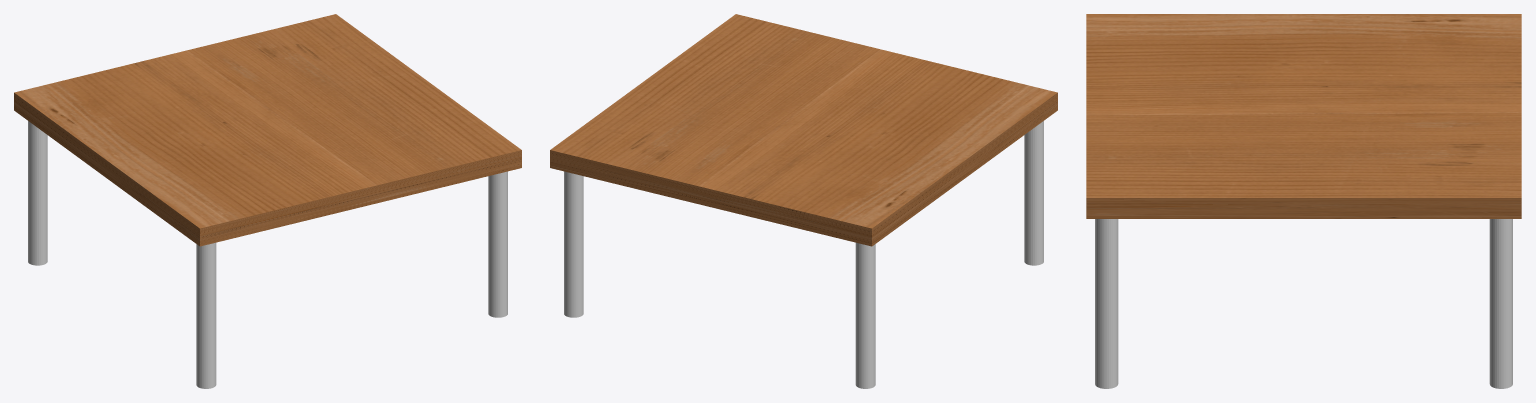
The model's file is table01.glb.
3 renders of one model, left to right at view 1: azimuth 30°, elevation 25°; view 2: azimuth 150°, elevation 25°; view 3: azimuth 270°, elevation 25°, orthographic. The views are drawn at different scales.
Parts seen in each view (by area): view 1: 立方体, 円柱.002, 円柱.003, 円柱; view 2: 立方体, 円柱, 円柱.001, 円柱.002; view 3: 立方体, 円柱.001, 円柱.003.
Part boxes in pixels (x1,y1,x2,y2): 立方体: (14,14,521,246); 円柱.002: (196,242,216,388); 円柱.003: (488,171,507,317); 円柱: (28,121,47,265); 立方体: (550,14,1057,246); 円柱: (855,242,875,388); 円柱.001: (564,171,583,317); 円柱.002: (1024,121,1043,265); 立方体: (1086,14,1521,218); 円柱.001: (1489,219,1512,388); 円柱.003: (1095,219,1118,388).
Size of the model in its own units: 0.75 by 0.37 by 0.75.
Materials: 1 (1 with a texture image).
